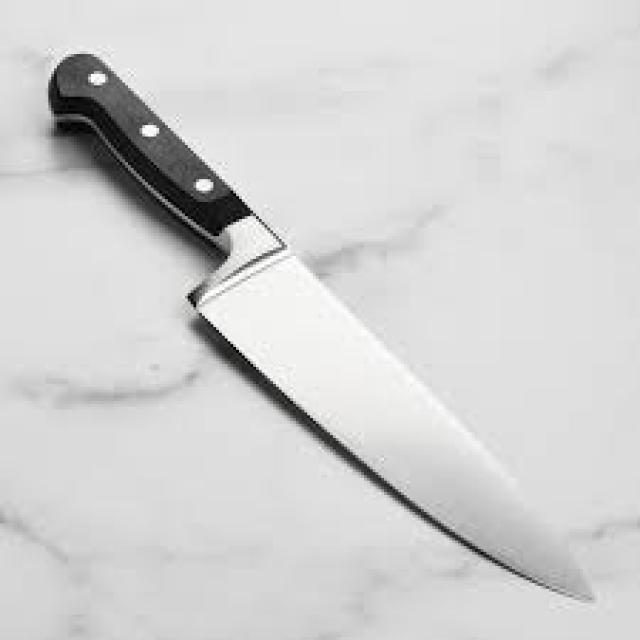Knife: (46, 48, 594, 603)
